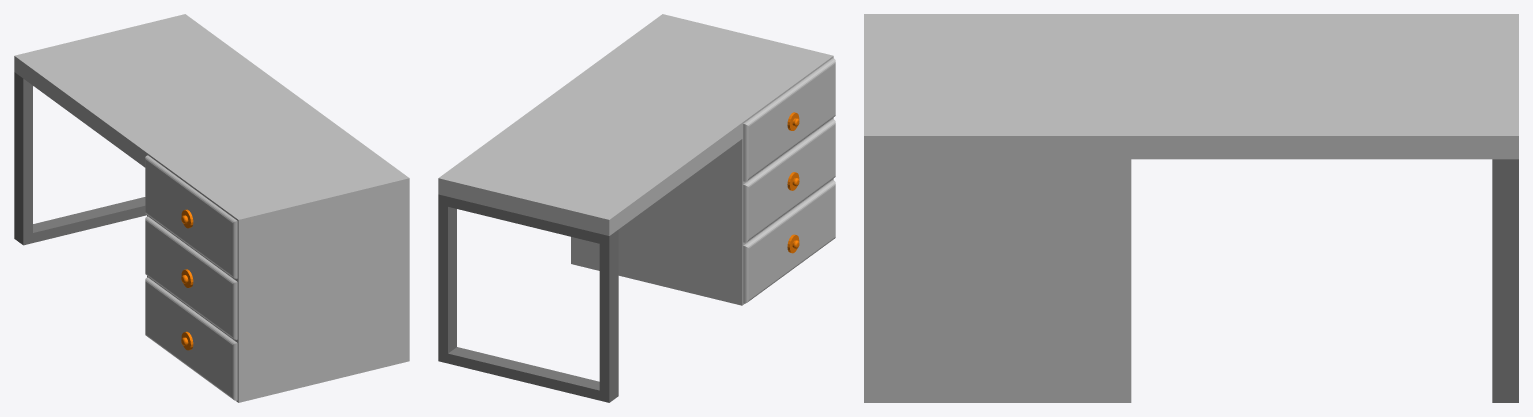
File: Wardrobe_13.fbx
The picture shows the model from 3 angles, left to right: view 1: azimuth 30°, elevation 25°; view 2: azimuth 150°, elevation 25°; view 3: azimuth 270°, elevation 25°; orthographic projection. The views are drawn at different scales.
Visible parts, largest first — view 1: Wardrobe_13, Wardrobe_13 Door_1, Wardrobe_13 Door_2, Wardrobe_13 Door_3; view 2: Wardrobe_13, Wardrobe_13 Door_1, Wardrobe_13 Door_2, Wardrobe_13 Door_3; view 3: Wardrobe_13.
Boxes of the visible parts, x1,y1,x2,y2 form: Wardrobe_13: (14,14,409,402); Wardrobe_13 Door_1: (145,155,237,278); Wardrobe_13 Door_2: (145,277,237,400); Wardrobe_13 Door_3: (145,216,237,339); Wardrobe_13: (438,14,833,402); Wardrobe_13 Door_1: (743,58,835,181); Wardrobe_13 Door_2: (743,180,835,303); Wardrobe_13 Door_3: (743,119,835,242); Wardrobe_13: (864,14,1518,402).
Bounding box in the file's own units: 0.5867 × 0.5659 × 1.26.
